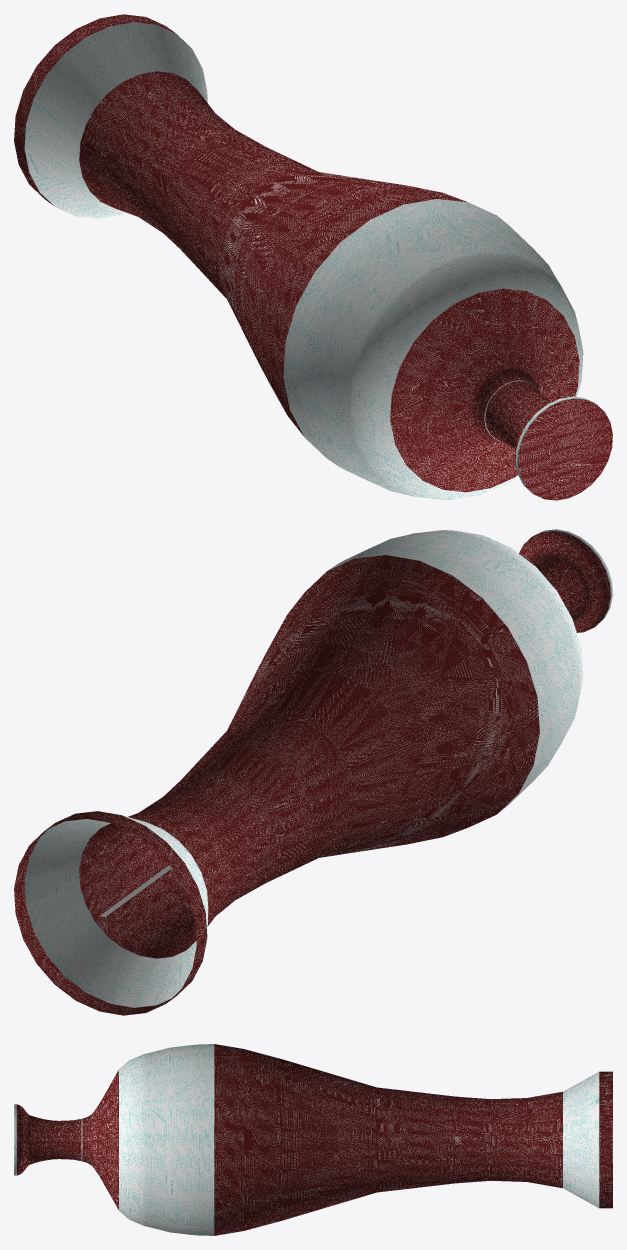
Rendered from model_align.obj.
The picture shows the model from 3 angles, top to bottom: view 1: azimuth 30°, elevation 25°; view 2: azimuth 150°, elevation 25°; view 3: azimuth 270°, elevation 25°; orthographic projection. The views are drawn at different scales.
Parts seen in each view (by area): view 1: mesh1_mesh1-geometry; view 2: mesh1_mesh1-geometry; view 3: mesh1_mesh1-geometry.
Boxes of the visible parts, bbox=[...] form: mesh1_mesh1-geometry: bbox=[14, 14, 612, 500]; mesh1_mesh1-geometry: bbox=[14, 529, 612, 1015]; mesh1_mesh1-geometry: bbox=[14, 1044, 612, 1235].
Size of the model in its own units: 0.0446 by 0.0446 by 0.1387.
